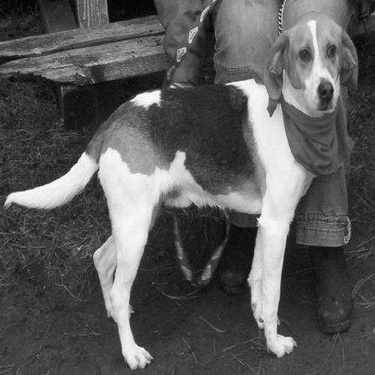dog: (4, 13, 362, 369)
